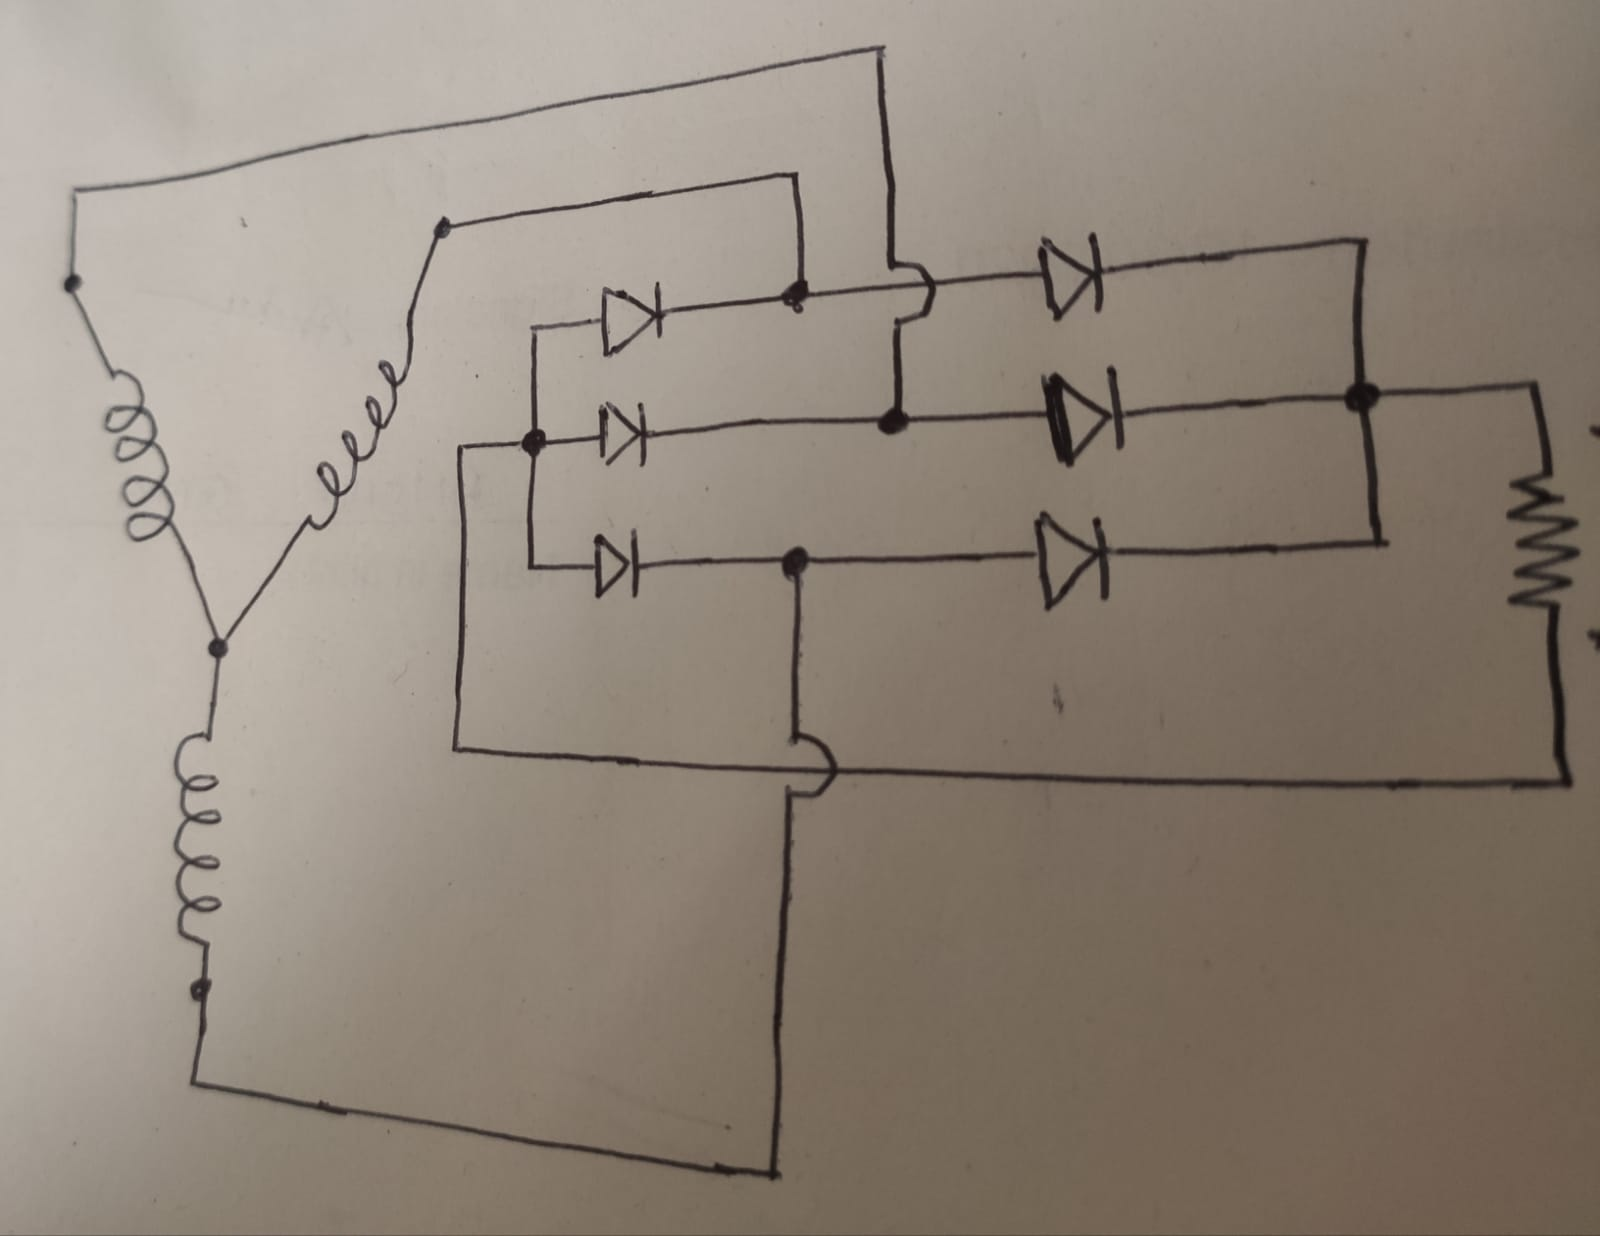crossover: (779, 726, 840, 808), (881, 253, 937, 330)
diode: (1032, 362, 1133, 465), (1032, 502, 1120, 612), (1032, 231, 1108, 318), (596, 282, 666, 357), (596, 393, 651, 470), (585, 530, 645, 599)
inductor: (315, 331, 414, 527), (103, 373, 176, 545), (170, 722, 221, 948)
junction: (1335, 377, 1391, 419), (1509, 367, 1558, 412), (871, 397, 919, 441), (1357, 518, 1403, 563), (775, 541, 815, 591), (1340, 225, 1383, 264), (1544, 761, 1584, 801), (179, 972, 221, 1007), (516, 425, 552, 465), (757, 1153, 790, 1194), (863, 32, 901, 68), (779, 277, 818, 306), (202, 634, 235, 669), (430, 205, 457, 241), (60, 269, 87, 303), (442, 734, 470, 765), (61, 178, 90, 206), (779, 164, 808, 191), (448, 436, 476, 463), (180, 1069, 209, 1094), (523, 318, 548, 344), (520, 554, 544, 582)
resistor: (1504, 456, 1581, 615)
